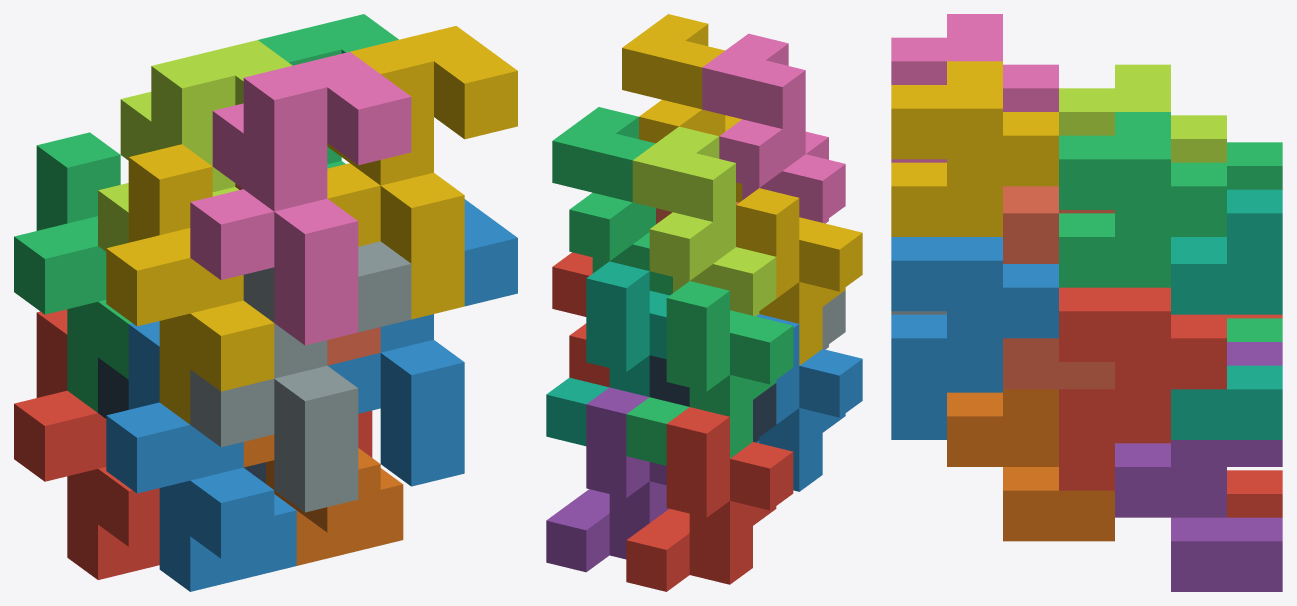
The model's file is tiling.obj.
3 renders of one model, left to right at view 1: azimuth 30°, elevation 25°; view 2: azimuth 150°, elevation 25°; view 3: azimuth 270°, elevation 25°, orthographic. The views are drawn at different scales.
Parts seen in each view (by area): view 1: copy_2_domain_4, copy_2_domain_8, copy_1_domain_4, copy_1_domain_2, copy_2_domain_2, copy_2_domain_6, copy_1_domain_3, copy_1_domain_1, copy_2_domain_3, copy_1_domain_6, copy_2_domain_7, copy_2_domain_1 (+1 smaller); view 2: copy_1_domain_1, copy_2_domain_4, copy_1_domain_3, copy_2_domain_3, copy_1_domain_5, copy_2_domain_7, copy_1_domain_4, copy_1_domain_7, copy_2_domain_8, copy_1_domain_2, copy_2_domain_5, copy_2_domain_1 (+1 smaller); view 3: copy_2_domain_6, copy_2_domain_5, copy_2_domain_7, copy_2_domain_8, copy_1_domain_5, copy_1_domain_7, copy_1_domain_6, copy_1_domain_8, copy_2_domain_4, copy_2_domain_3, copy_1_domain_3, copy_1_domain_1.
Part boxes in pixels (x1=…): copy_2_domain_4: x1=190, y1=52, x2=411, y2=345; copy_2_domain_8: x1=327, y1=26, x2=517, y2=319; copy_1_domain_4: x1=106, y1=144, x2=274, y2=424; copy_1_domain_2: x1=106, y1=321, x2=296, y2=591; copy_2_domain_2: x1=190, y1=241, x2=411, y2=512; copy_2_domain_6: x1=328, y1=199, x2=517, y2=486; copy_1_domain_3: x1=14, y1=132, x2=132, y2=412; copy_1_domain_1: x1=14, y1=309, x2=159, y2=579; copy_2_domain_3: x1=98, y1=40, x2=292, y2=251; copy_1_domain_6: x1=243, y1=434, x2=403, y2=565; copy_2_domain_7: x1=258, y1=14, x2=398, y2=168; copy_2_domain_1: x1=98, y1=357, x2=265, y2=483; copy_1_domain_1: x1=626, y1=407, x2=793, y2=591; copy_2_domain_4: x1=702, y1=33, x2=845, y2=223; copy_1_domain_3: x1=626, y1=281, x2=793, y2=465; copy_2_domain_3: x1=632, y1=126, x2=776, y2=316; copy_1_domain_5: x1=546, y1=387, x2=668, y2=572; copy_2_domain_7: x1=552, y1=107, x2=672, y2=295; copy_1_domain_4: x1=736, y1=188, x2=862, y2=365; copy_1_domain_7: x1=546, y1=261, x2=669, y2=446; copy_2_domain_8: x1=622, y1=14, x2=742, y2=202; copy_1_domain_2: x1=756, y1=314, x2=862, y2=491; copy_2_domain_5: x1=552, y1=252, x2=609, y2=387; copy_2_domain_1: x1=649, y1=355, x2=776, y2=442; copy_2_domain_6: x1=891, y1=237, x2=1058, y2=439; copy_2_domain_5: x1=1059, y1=287, x2=1226, y2=490; copy_2_domain_7: x1=1059, y1=112, x2=1226, y2=287; copy_2_domain_8: x1=891, y1=61, x2=1058, y2=236; copy_1_domain_5: x1=1115, y1=342, x2=1282, y2=591; copy_1_domain_7: x1=1171, y1=189, x2=1282, y2=439; copy_1_domain_6: x1=947, y1=389, x2=1114, y2=541; copy_1_domain_8: x1=1003, y1=186, x2=1114, y2=389; copy_2_domain_4: x1=891, y1=14, x2=1058, y2=162; copy_2_domain_3: x1=1059, y1=64, x2=1226, y2=162; copy_1_domain_3: x1=1227, y1=142, x2=1282, y2=341; copy_1_domain_1: x1=1115, y1=314, x2=1282, y2=517.
Bounding box in the file's own units: 6 × 10 × 7.
